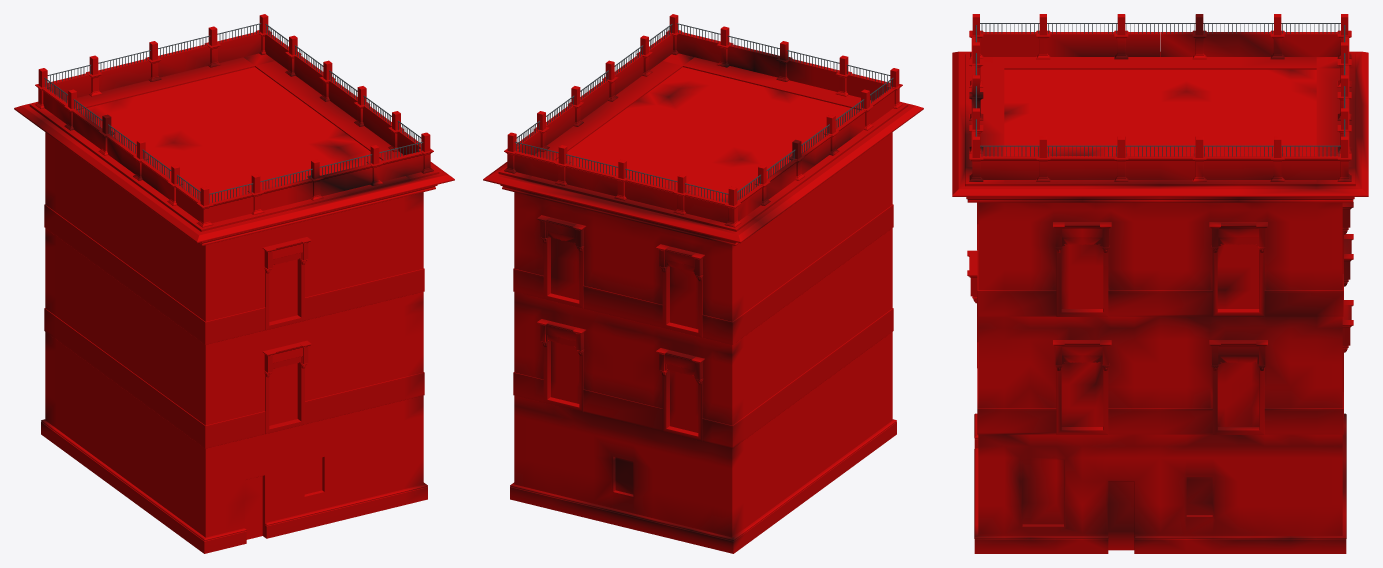
The model's file is Building_07_a_merged.fbx.
The picture shows the model from 3 angles, left to right: view 1: azimuth 30°, elevation 25°; view 2: azimuth 150°, elevation 25°; view 3: azimuth 270°, elevation 25°; orthographic projection. The views are drawn at different scales.
Visible parts, largest first — view 1: Building_07_a_merged; view 2: Building_07_a_merged; view 3: Building_07_a_merged.
Boxes of the visible parts, <box> form: Building_07_a_merged: <box>14,14,454,553</box>; Building_07_a_merged: <box>483,14,923,553</box>; Building_07_a_merged: <box>952,14,1368,553</box>.
Size of the model in its own units: 1300 by 1759 by 1600.
